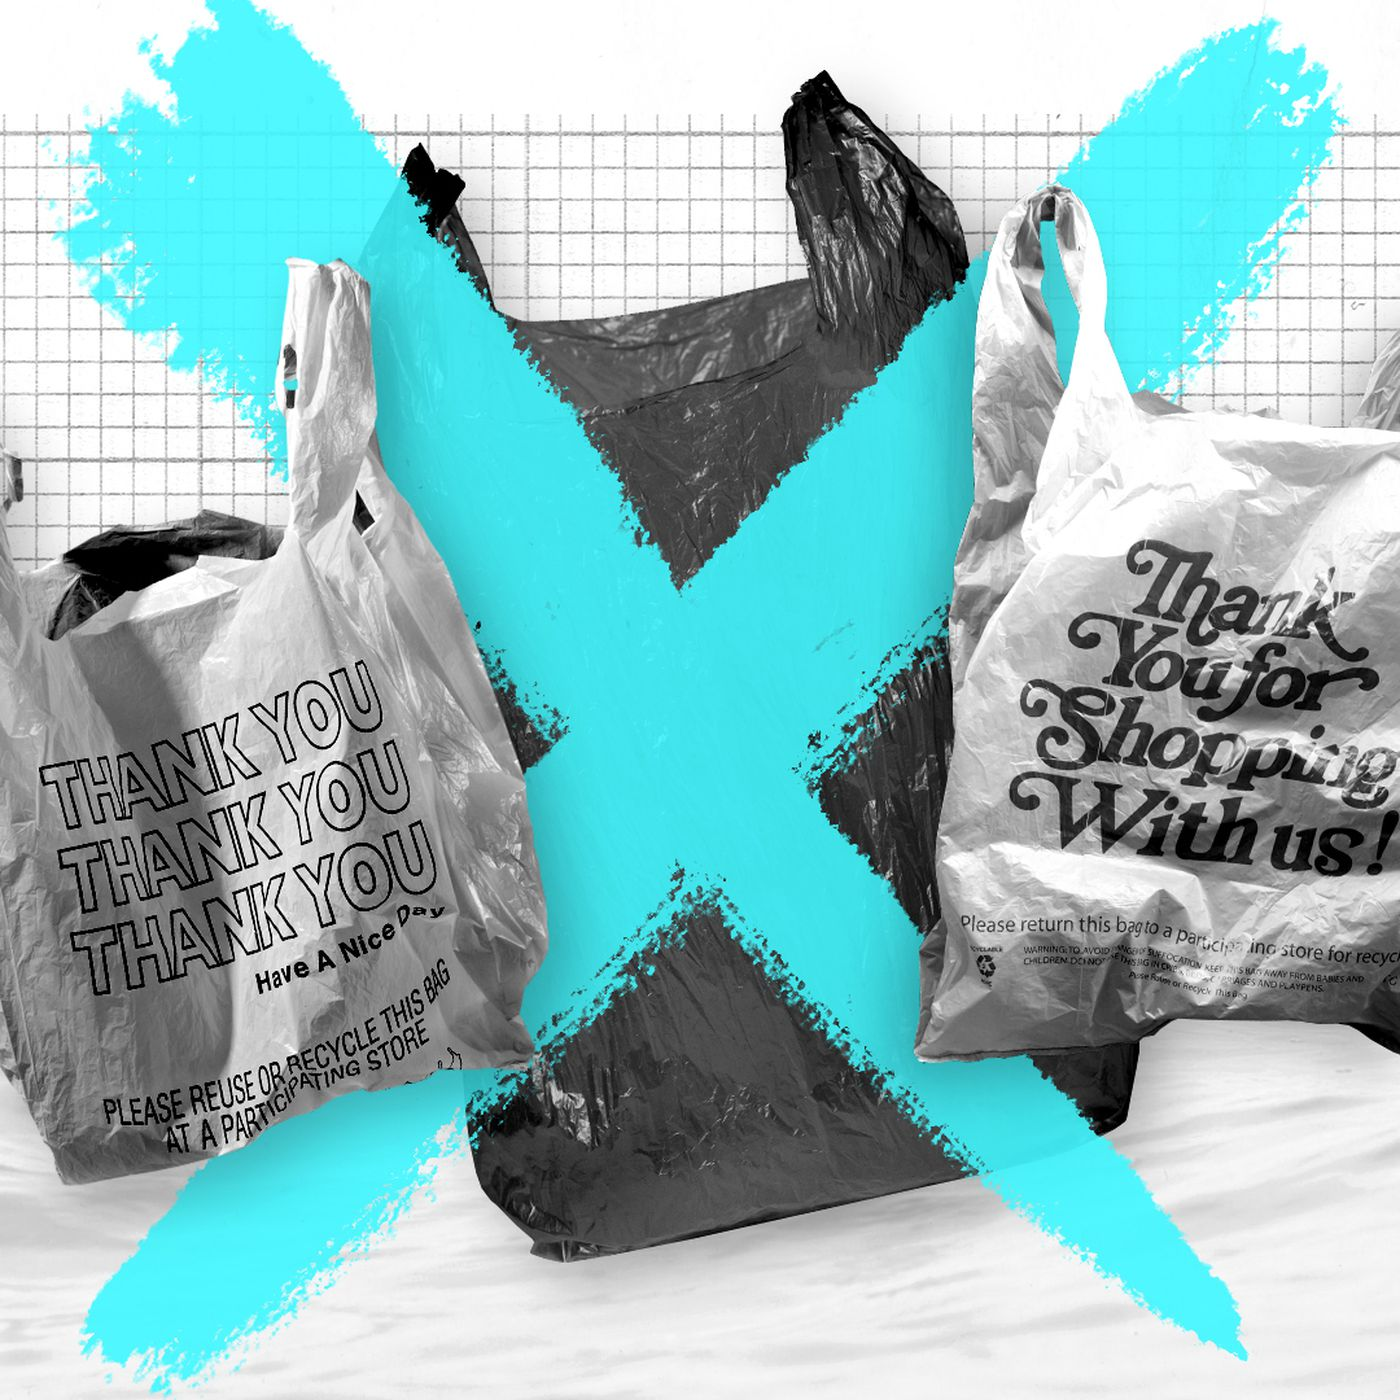plastic_bagwdw: (226, 44, 1260, 1321), (3, 215, 618, 1249), (868, 79, 1400, 1227)
